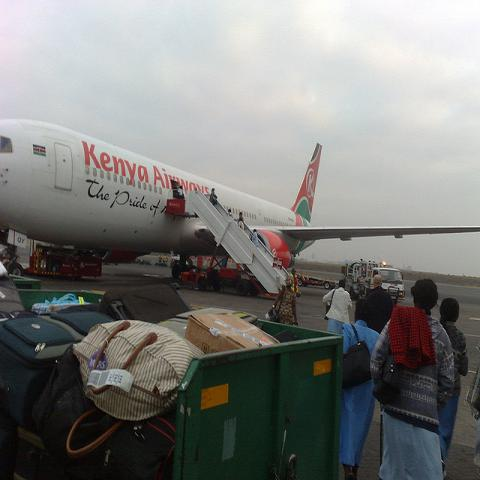truck: (344, 258, 406, 307)
